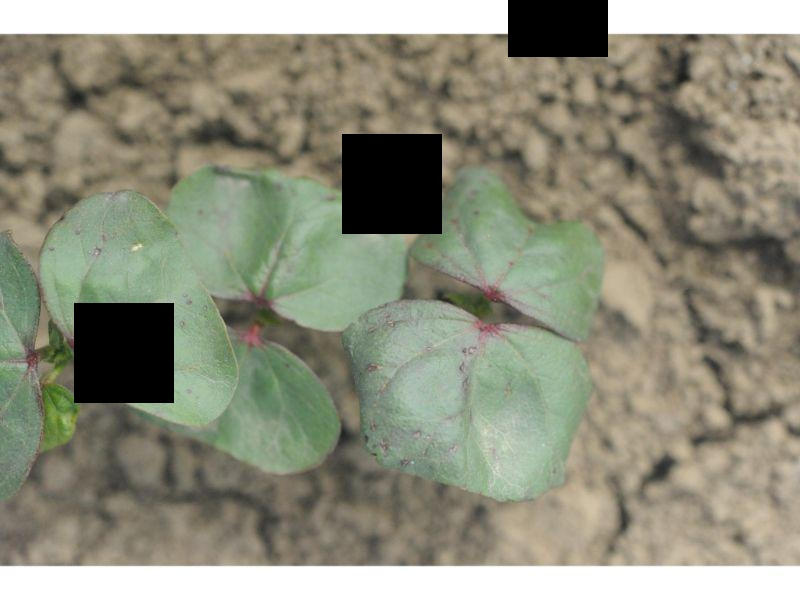cotton: (4, 162, 604, 503)
